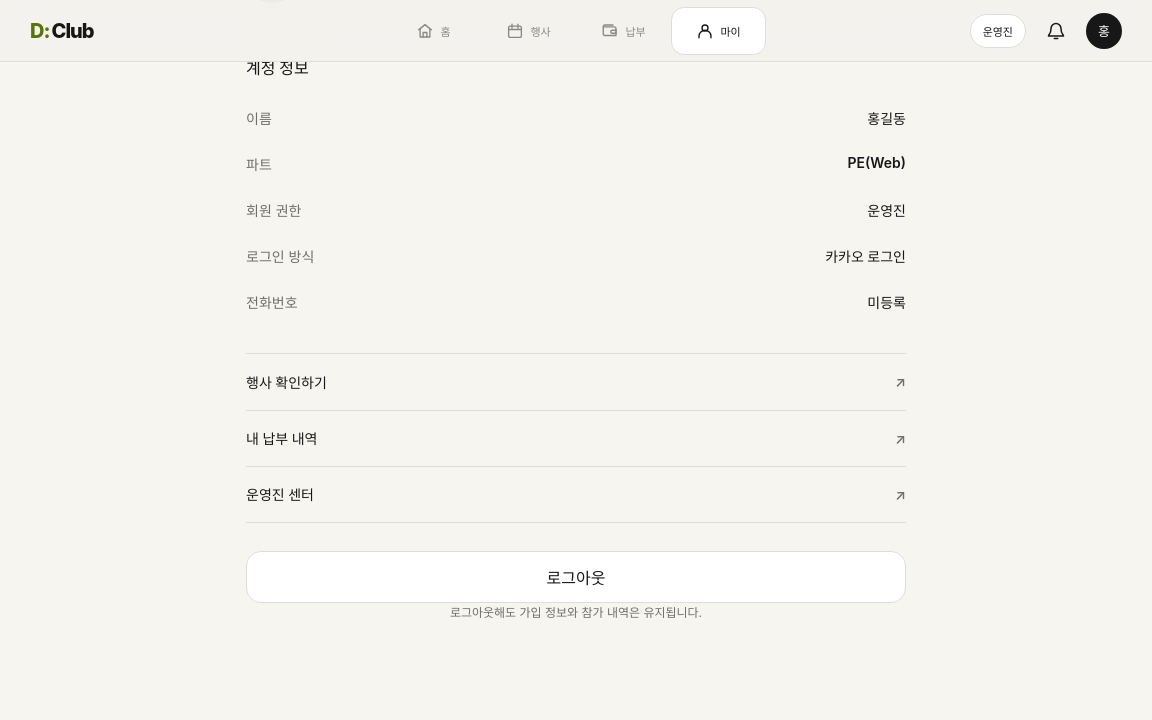
Test: MyPage › 로그아웃 실패 시 화면을 유지하고 재시도를 안내한다
The image size is (1152, 720).
(page scrolled)
What coordinates should you click on to do the following:
click the button "로그아웃"
I would click on:
 (576, 577)
Its box is [246,551,906,603].
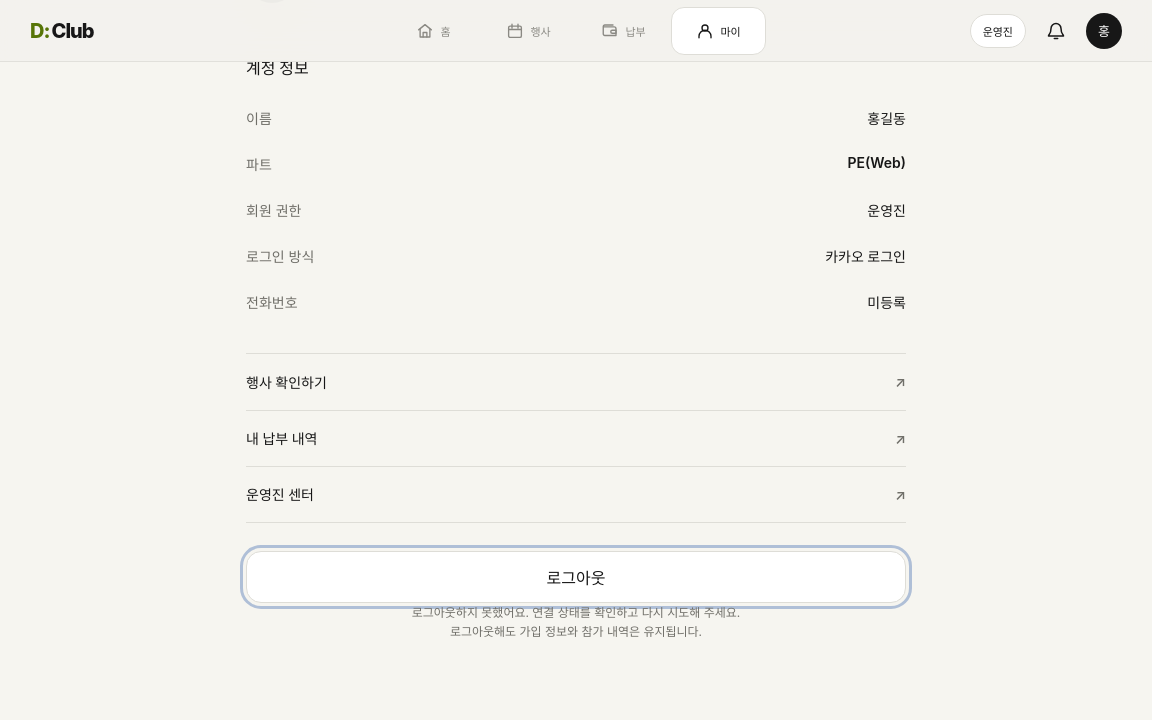
Expected: the message shows "로그아웃하지 못했어요", [412,605,740,620]
